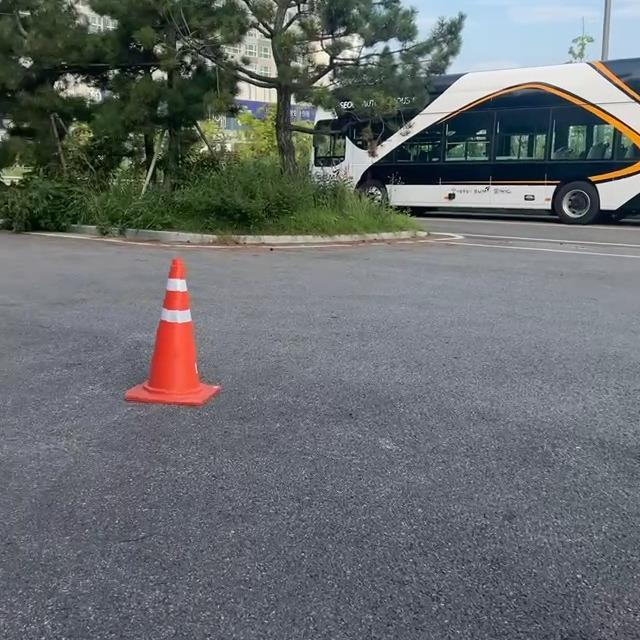fallen_object: (109, 267, 277, 415)
